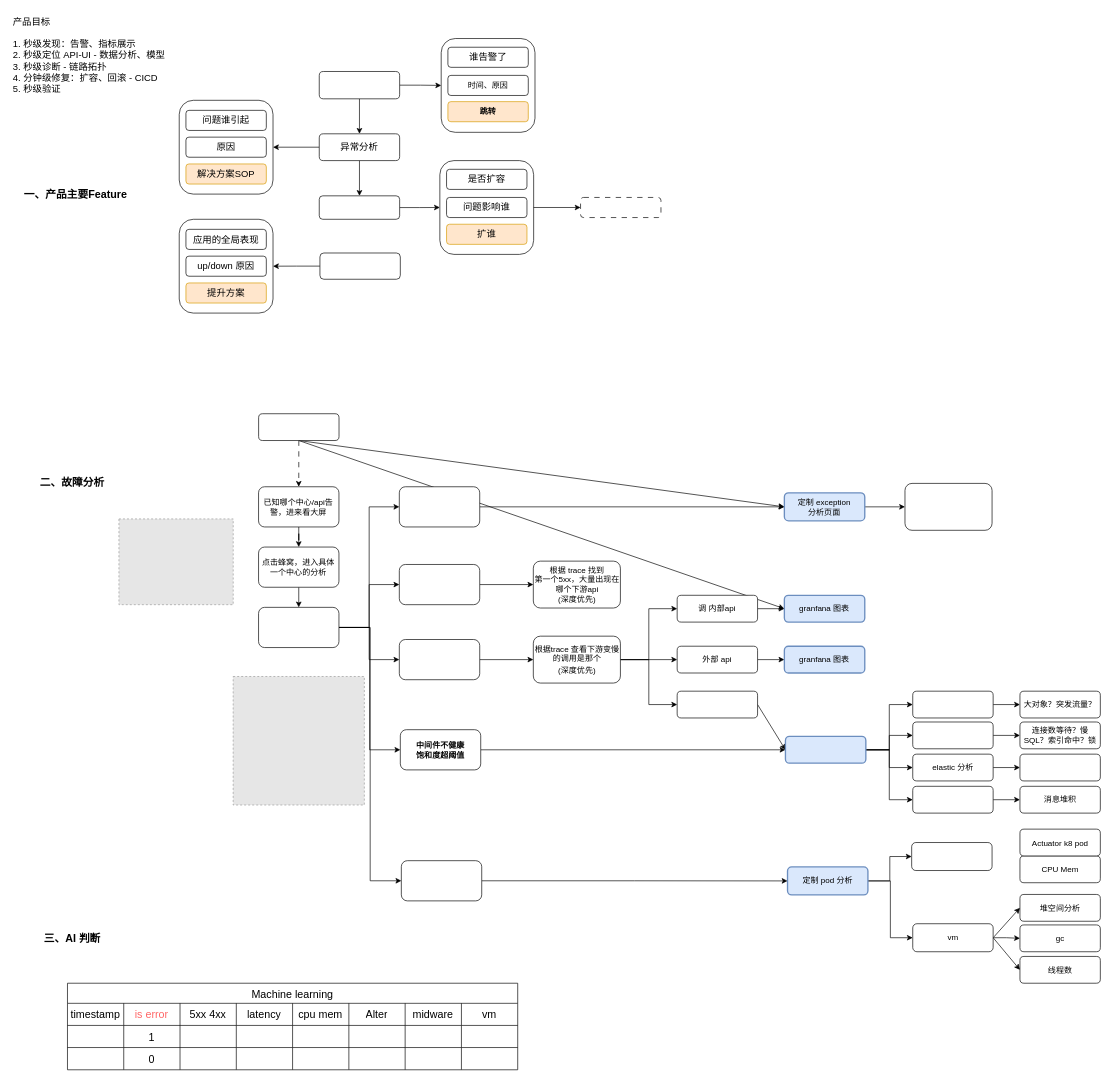
This 1112x1081 diagram has some shape labels left out. Grey dashed boxes stand in for pictures. The centre of each missing label's shape, as x and y in pixels:
disk 等饱和度问题: (1059,767)
Exception 分析： 前5多的告警在哪个方法栈 第几行上，展示1个实例: (948,506)
granfana 图标: (825,749)
latency 比 均值高1倍以上: (439,659)
leo：怎么扩: (620,207)
MQ 分析: (952,799)
mysql 分析: (952,735)
pod: (441,880)
pod 饱和度: (951,856)
redis 分析: (952,704)
告警统计/详情: (359,85)
告警详情: (298,427)
大量返回 5xx: (439,584)
如果代码不健康 exception: (439,506)
应用的 global/api 月度报告: (359,265)
自动扩容: (359,207)
观察：error、exception、RT、Midware 、pod health (pod actuator vm): (298,627)
调的是自己的DB: (717,704)
